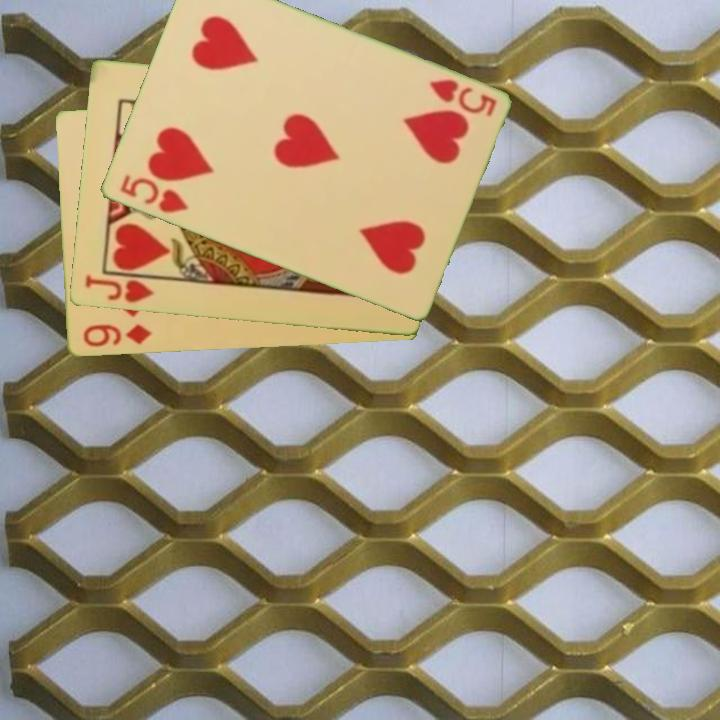5h: (115, 171, 191, 217), (425, 75, 499, 120)
9d: (79, 321, 154, 351)
Jh: (81, 271, 156, 306)
